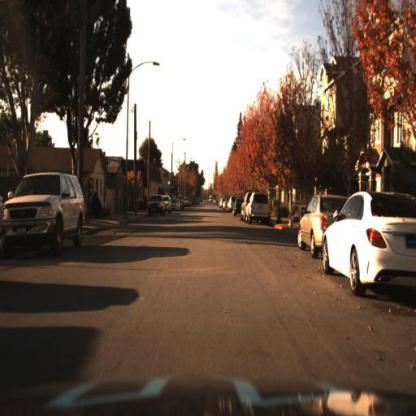car: (319, 190, 416, 300), (1, 168, 87, 257), (297, 194, 350, 259), (247, 193, 271, 224), (147, 192, 165, 219)
